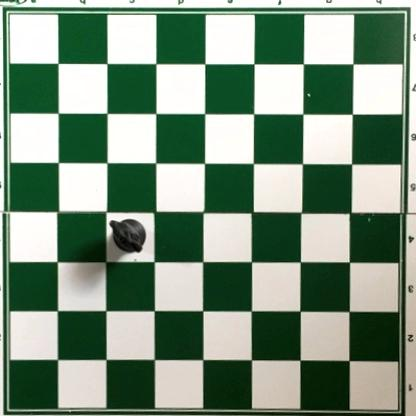black-knight: (107, 218, 149, 254)
